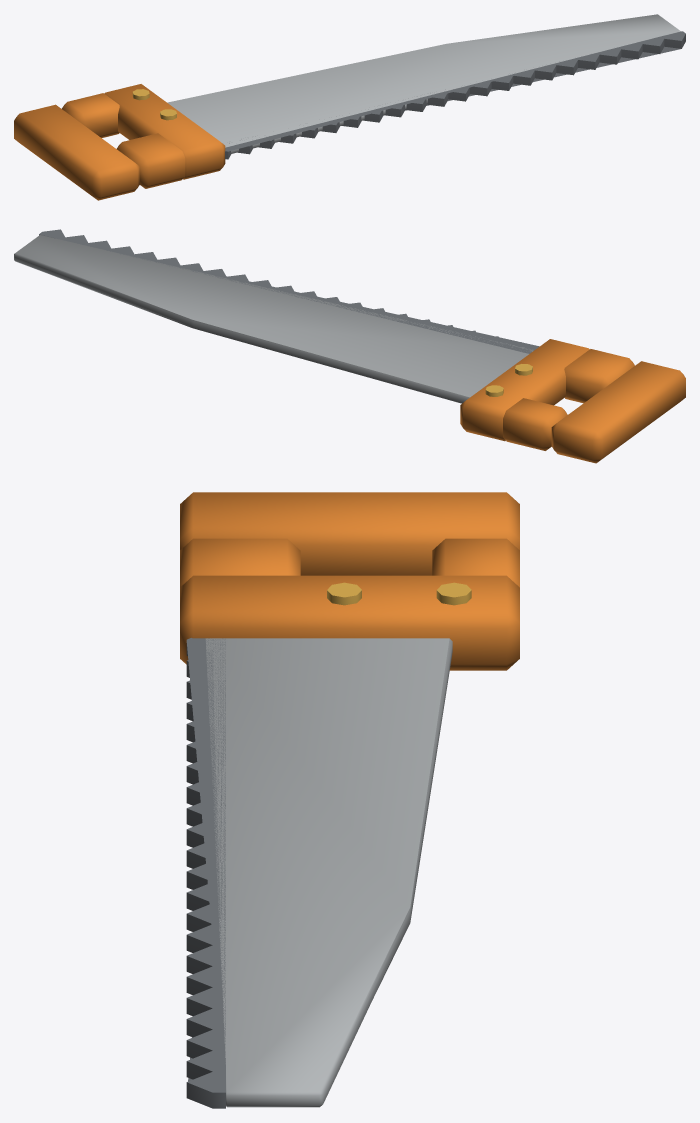
Rendered from SM_HandSaw_01.glb.
3 views of the same model, one above another, from view 1: azimuth 30°, elevation 25°; view 2: azimuth 150°, elevation 25°; view 3: azimuth 270°, elevation 25° (orthographic). The views are drawn at different scales.
Visible parts, largest first — view 1: SM_HandSaw_01; view 2: SM_HandSaw_01; view 3: SM_HandSaw_01.
Boxes of the visible parts, <box> form: SM_HandSaw_01: <box>14,14,685,200</box>; SM_HandSaw_01: <box>14,229,685,463</box>; SM_HandSaw_01: <box>180,492,519,1108</box>.
Bounding box in the file's own units: 0.63 × 0.034 × 0.155.
Materials: 1 (1 with a texture image).
